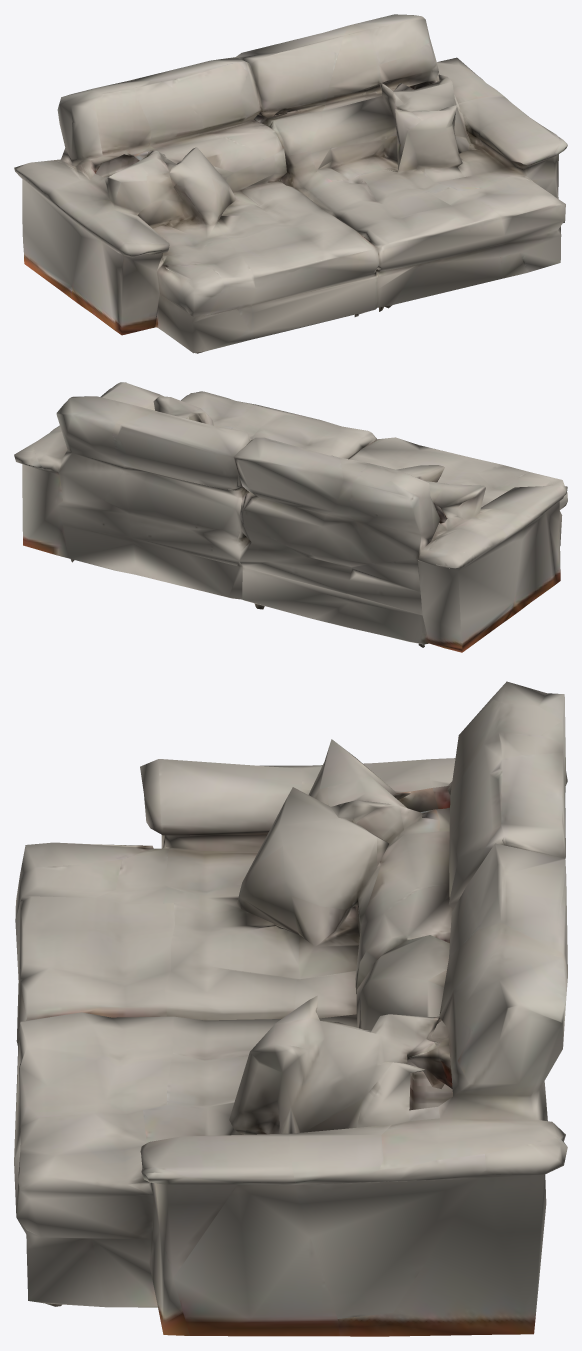
Rendered from ws_sofa_capitone_lite.glb.
The picture shows the model from 3 angles, top to bottom: view 1: azimuth 30°, elevation 25°; view 2: azimuth 150°, elevation 25°; view 3: azimuth 270°, elevation 25°; orthographic projection. The views are drawn at different scales.
Bounding box in the file's own units: 2 × 0.7271 × 1.14.
Materials: 1 (1 with a texture image).
